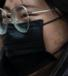with_mask: (1, 2, 68, 76)
